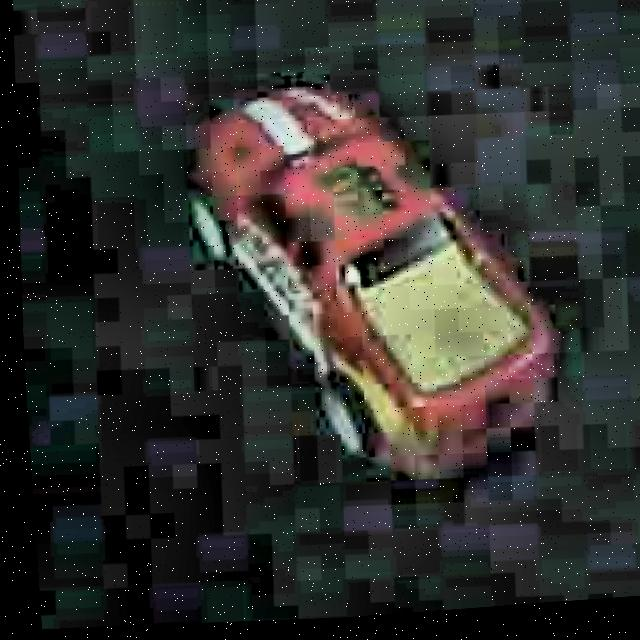car: (163, 54, 577, 508)
